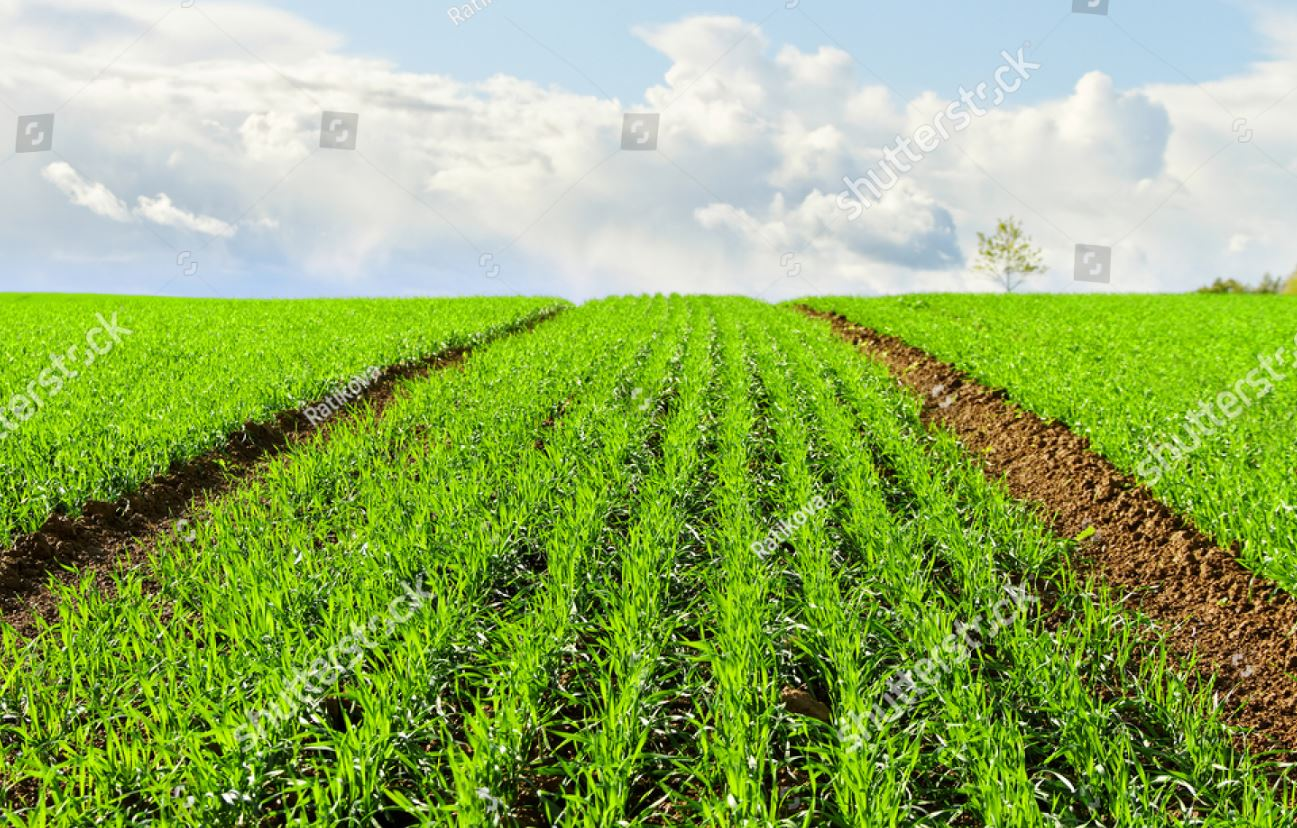Wheat: (592, 432, 957, 736)
